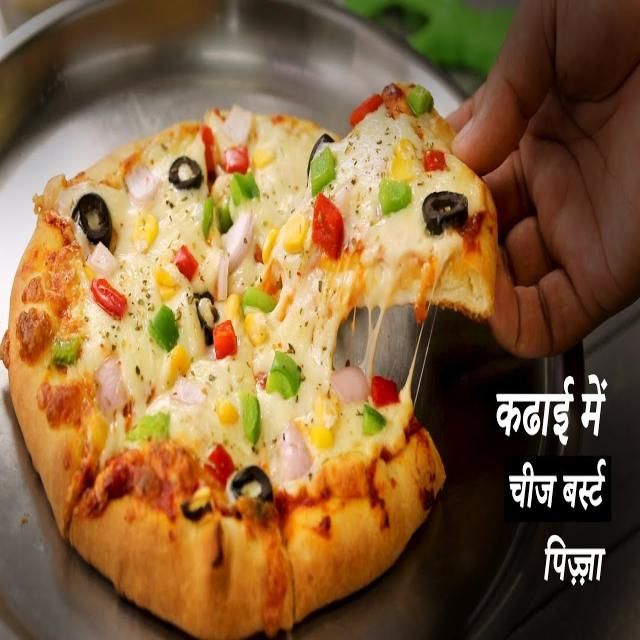pizza: (6, 85, 491, 639)
